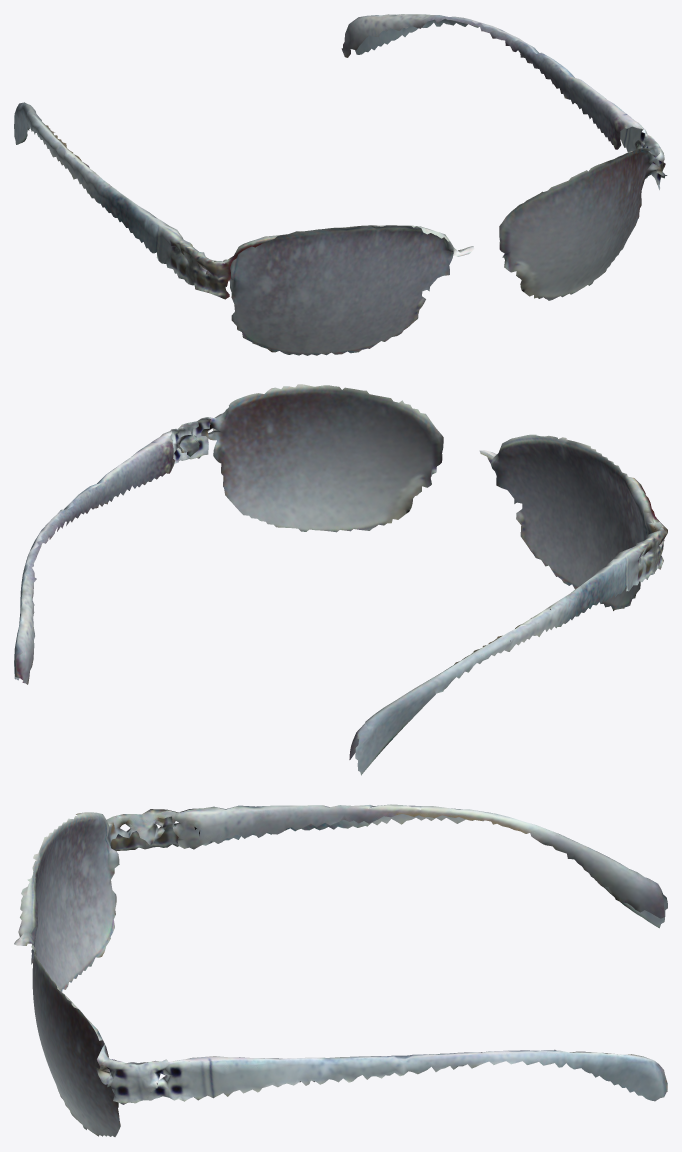
File: scan_align.obj
3 views of the same model, one above another, from view 1: azimuth 30°, elevation 25°; view 2: azimuth 150°, elevation 25°; view 3: azimuth 270°, elevation 25° (orthographic). The views are drawn at different scales.
Size of the model in its own units: 0.1418 by 0.0388 by 0.1532.
Materials: 1 (1 with a texture image).
